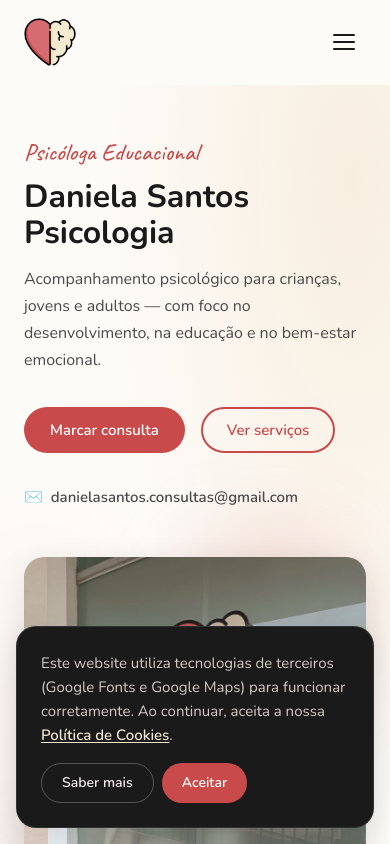
Header › toggles mobile navigation menu
What coordinates should you click on to do the following:
click the button named "abrir menu"
I would click on:
 (344, 42)
Its box is [322,20,366,64].
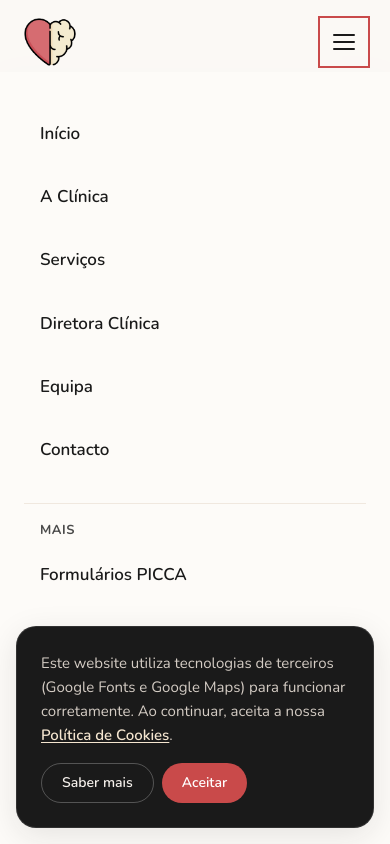
Now the navigation bar with id "mobile-nav" is shown
